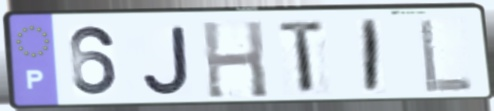6: (67, 23, 122, 101)
H: (199, 19, 271, 101)
I: (362, 17, 382, 96)
J: (139, 24, 194, 98)
L: (416, 16, 476, 95)
T: (276, 18, 329, 98)
